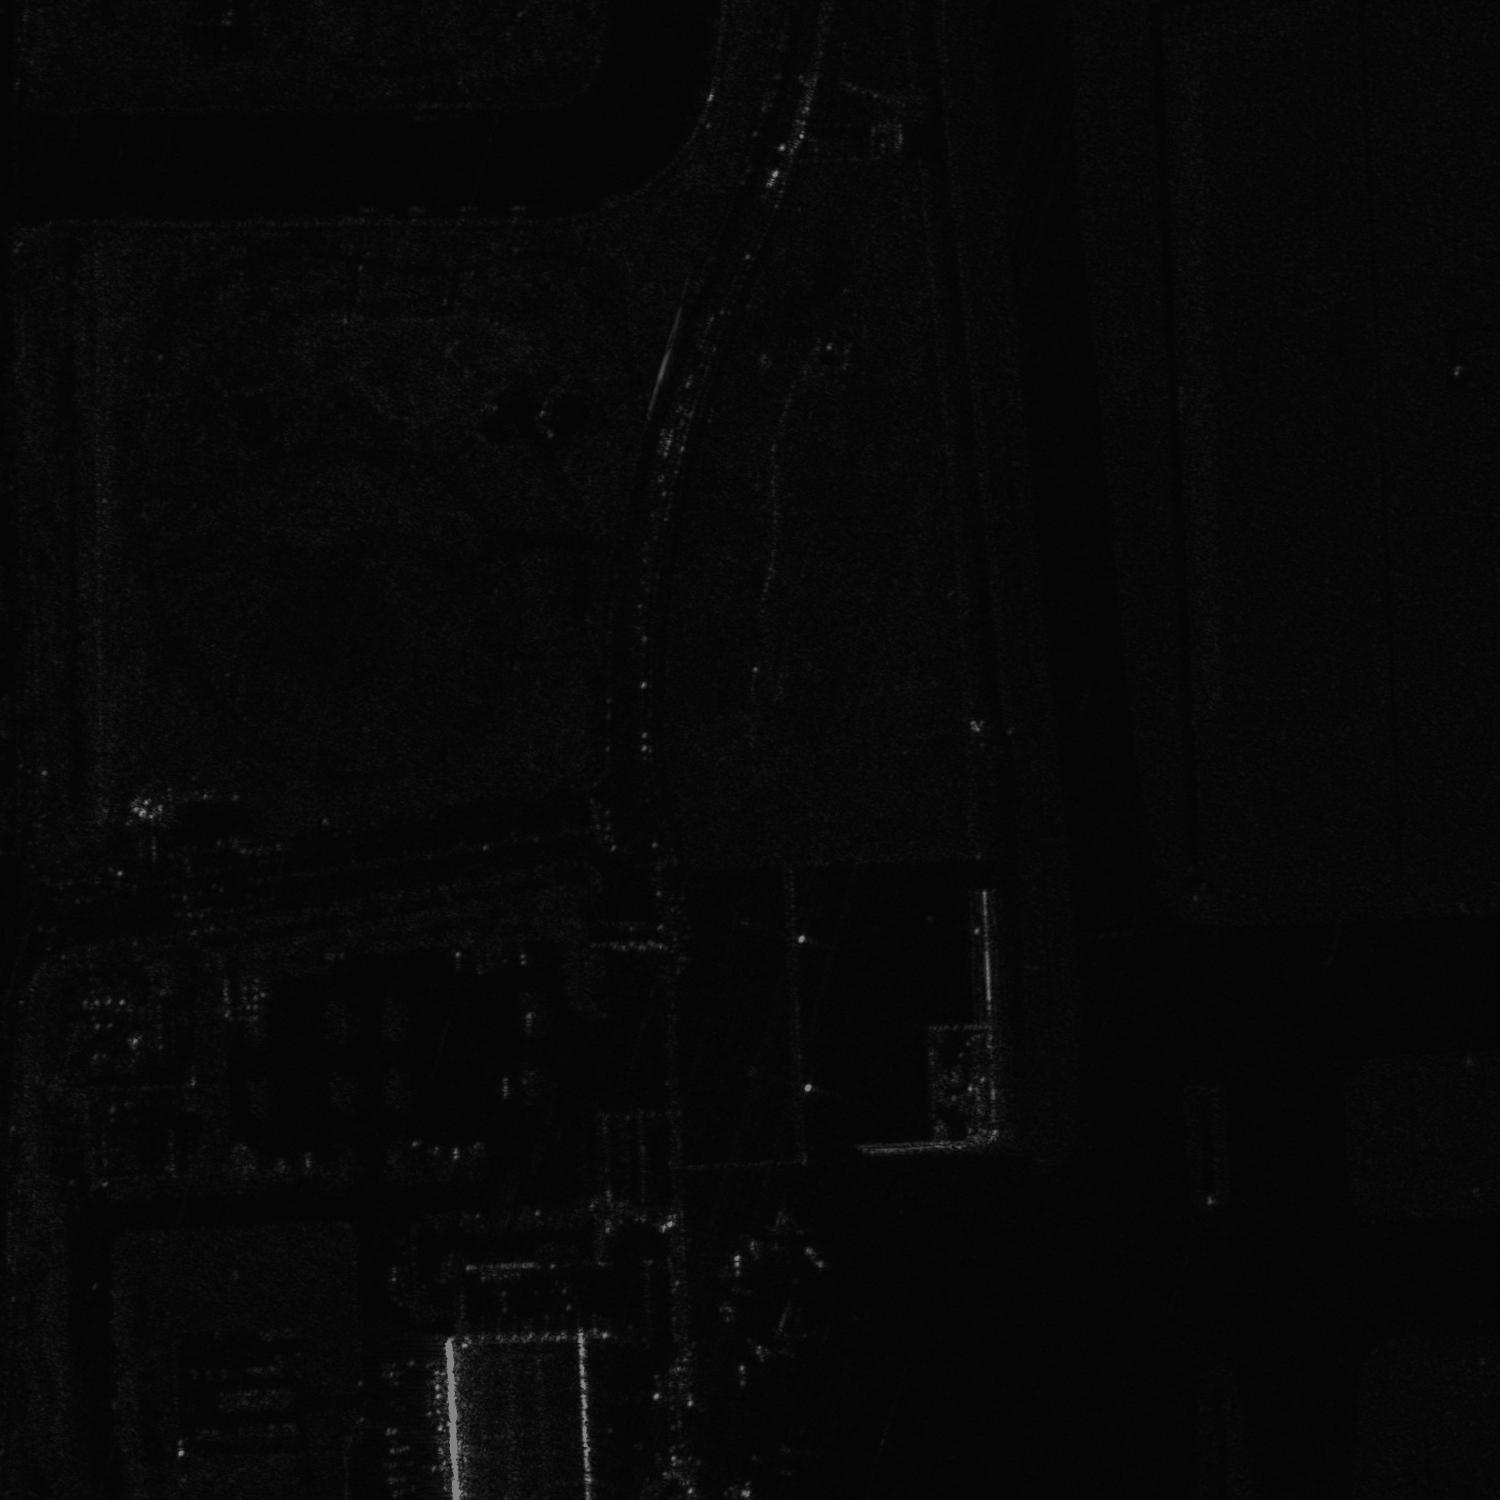A320/321: (735, 1301, 838, 1379)
